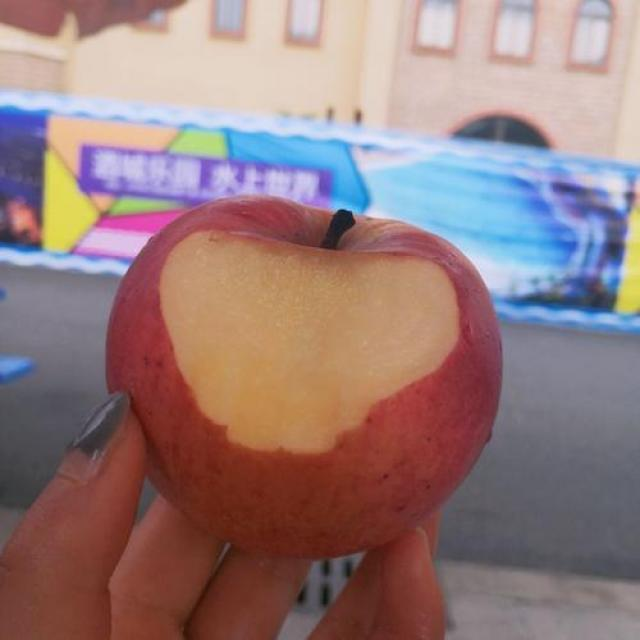Rotten: (99, 189, 507, 573)
